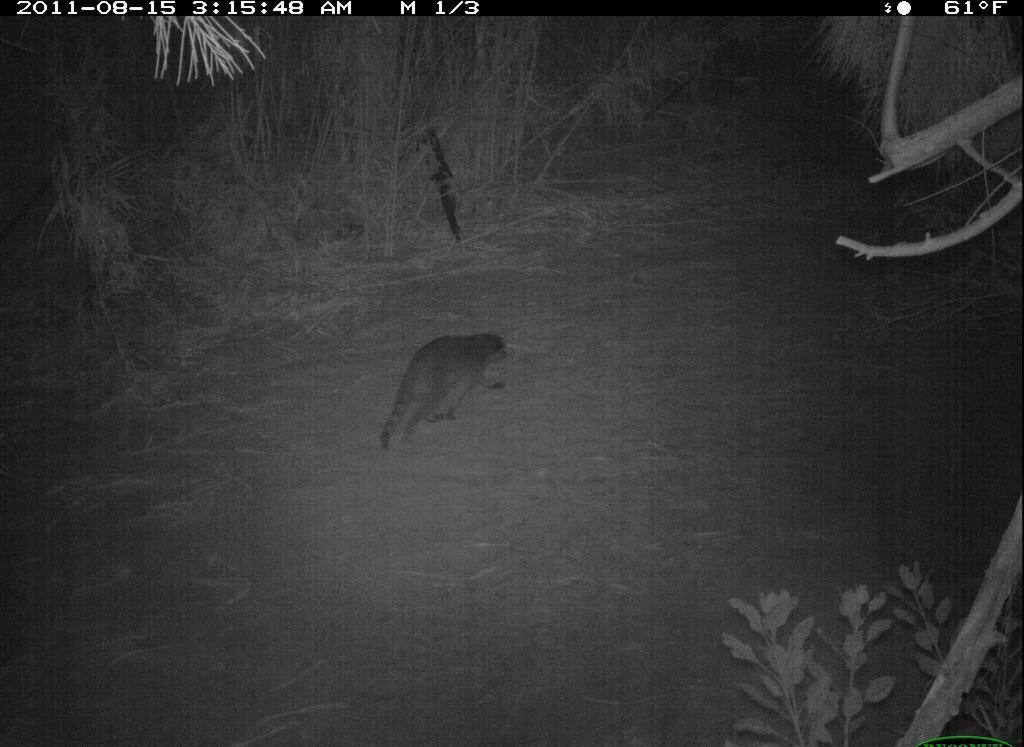raccoon: (365, 319, 534, 472)
